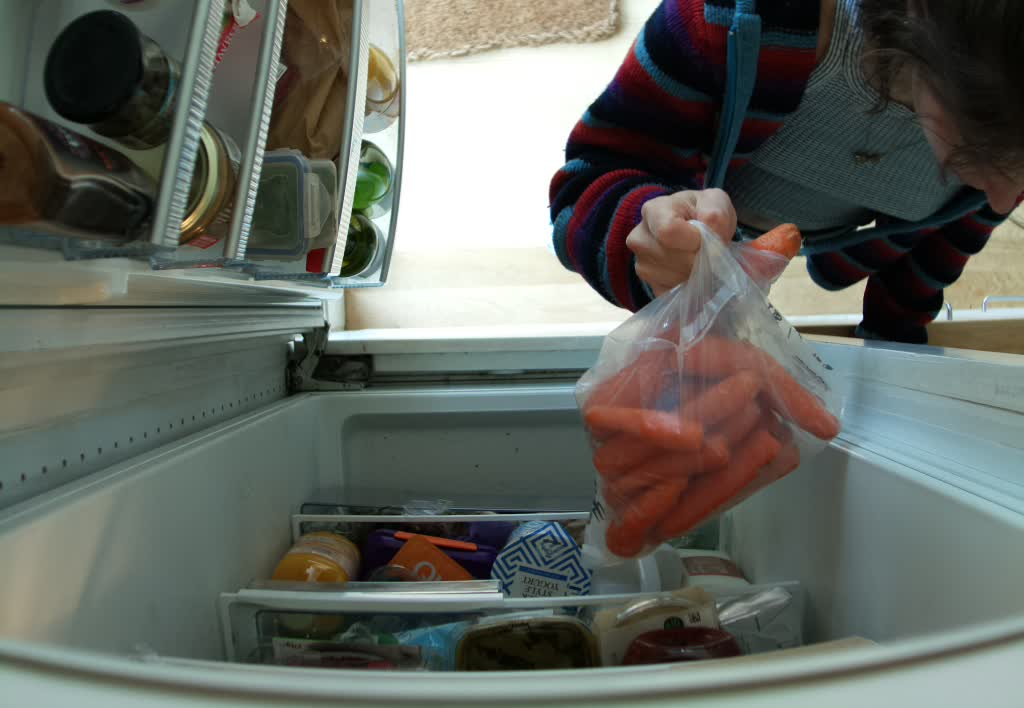carrot: (577, 224, 842, 547)
